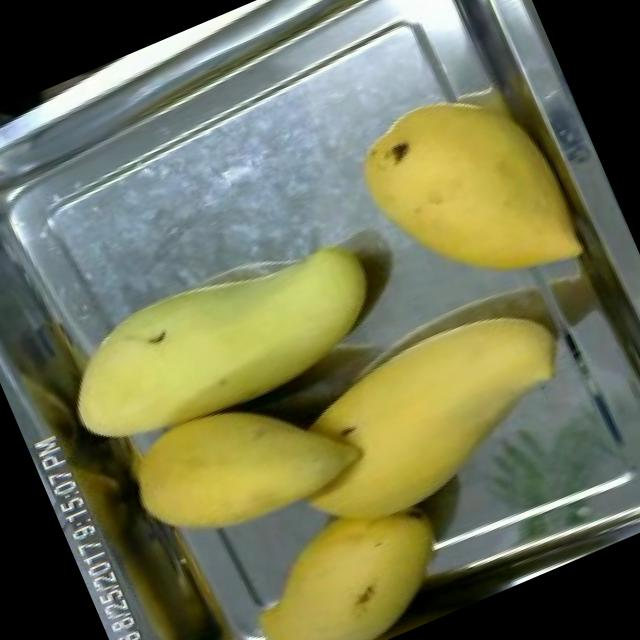fruit: (23, 180, 419, 488), (248, 264, 610, 564), (327, 51, 608, 342), (108, 368, 368, 583), (214, 468, 472, 640)
